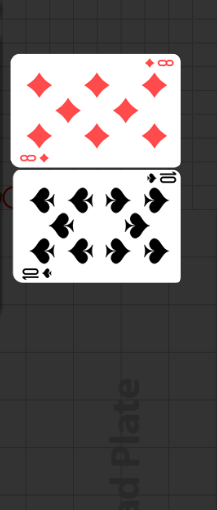10S: (20, 267, 53, 281)
8D: (18, 152, 50, 164)
